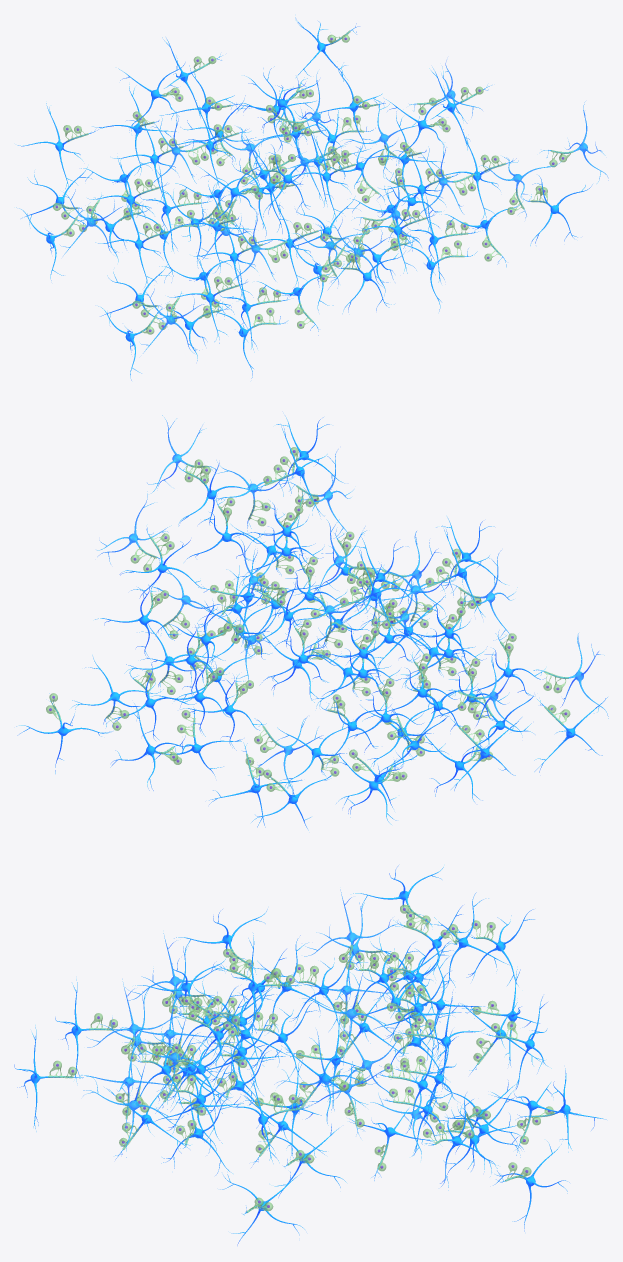
The model's file is brain.glb.
3 renders of one model, top to bottom at view 1: azimuth 30°, elevation 25°; view 2: azimuth 150°, elevation 25°; view 3: azimuth 270°, elevation 25°, orthographic. The views are drawn at different scales.
Visible parts, largest first — view 1: Main_Neuron3_phong1_0, Oligodendrocyte_Myelin3_0, Inside_Oligo1_m_oligo_inside_0; view 2: Main_Neuron3_phong1_0, Oligodendrocyte_Myelin3_0, Inside_Oligo1_m_oligo_inside_0; view 3: Main_Neuron3_phong1_0, Oligodendrocyte_Myelin3_0, Inside_Oligo1_m_oligo_inside_0.
Part boxes in pixels (x1,y1,x2,y2): Main_Neuron3_phong1_0: (16,17,608,380); Oligodendrocyte_Myelin3_0: (53,30,573,334); Inside_Oligo1_m_oligo_inside_0: (55,37,564,331); Main_Neuron3_phong1_0: (16,415,608,830); Oligodendrocyte_Myelin3_0: (46,447,570,791); Inside_Oligo1_m_oligo_inside_0: (49,450,567,788); Main_Neuron3_phong1_0: (14,865,606,1245); Oligodendrocyte_Myelin3_0: (48,904,554,1212); Inside_Oligo1_m_oligo_inside_0: (56,908,550,1207).
Size of the model in its own units: 0.5467 by 0.339 by 0.5624.
